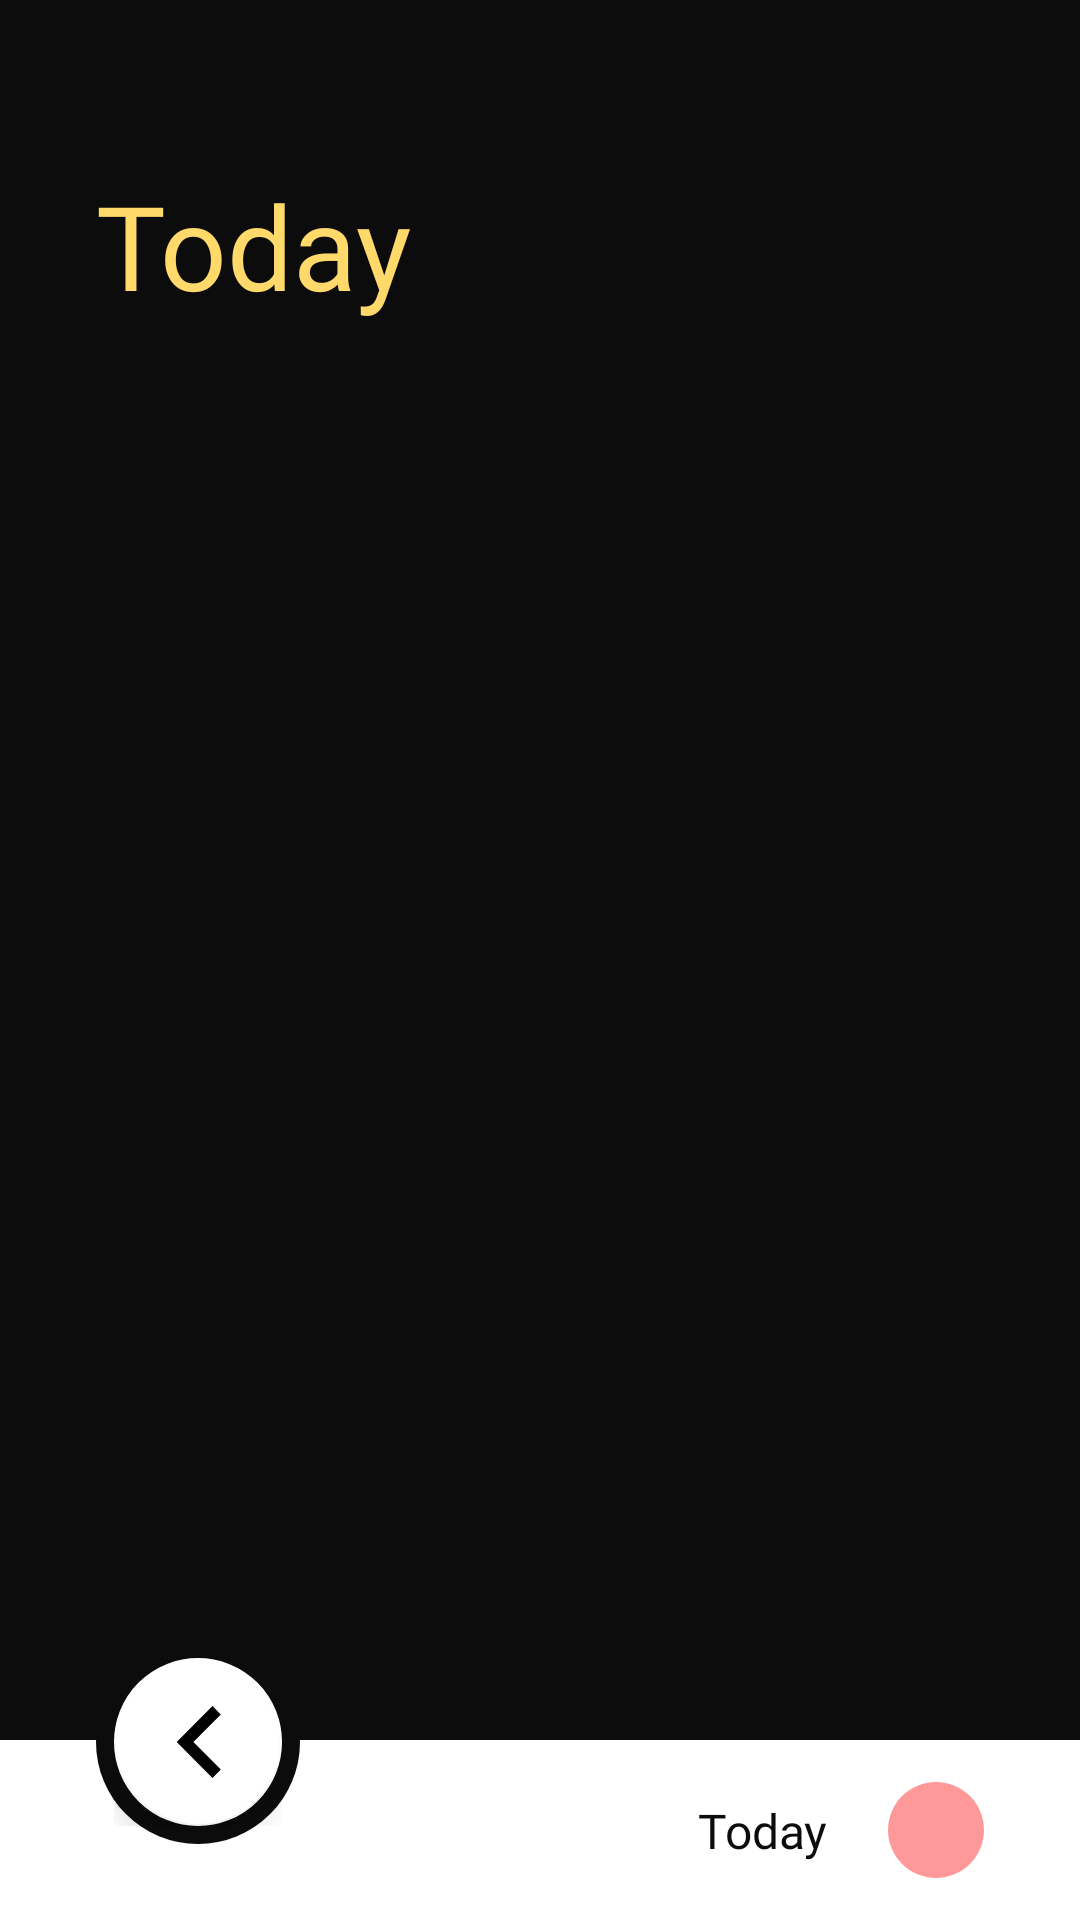

Named icons in this screenshot (1080 × 1920) and their centers, (x,y):
arrow: (198,1742)
